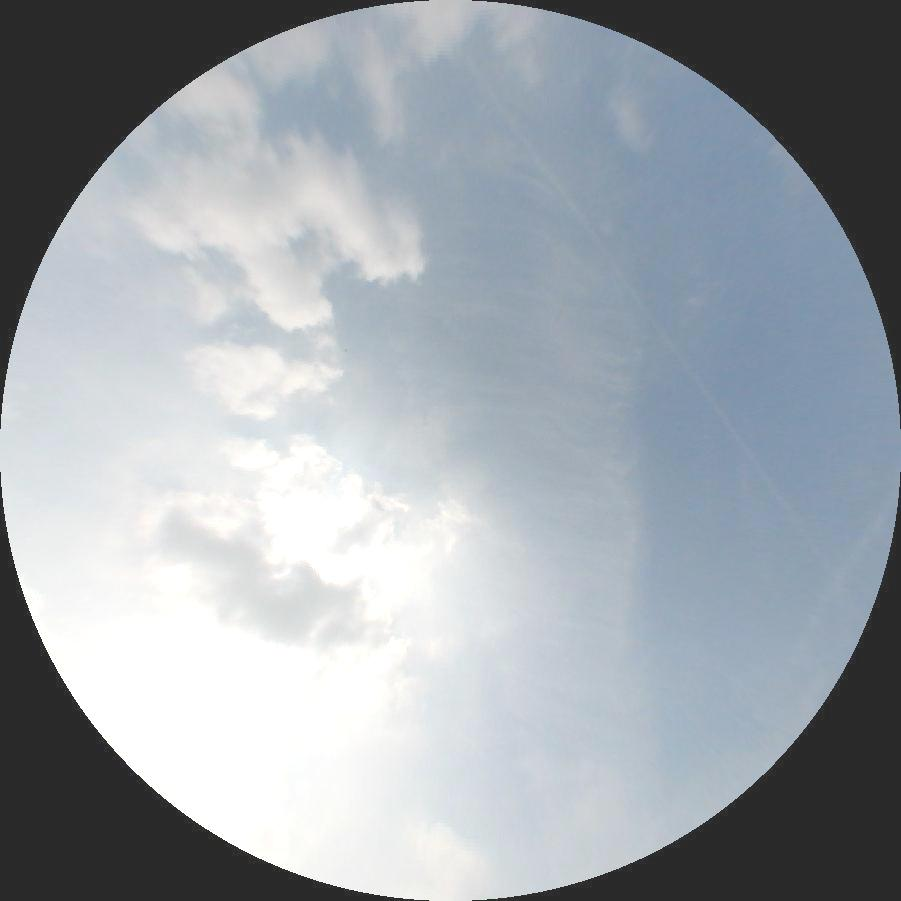contrail old: (455, 40, 839, 580)
sun: (219, 516, 394, 696)
unknow: (751, 473, 901, 709)
